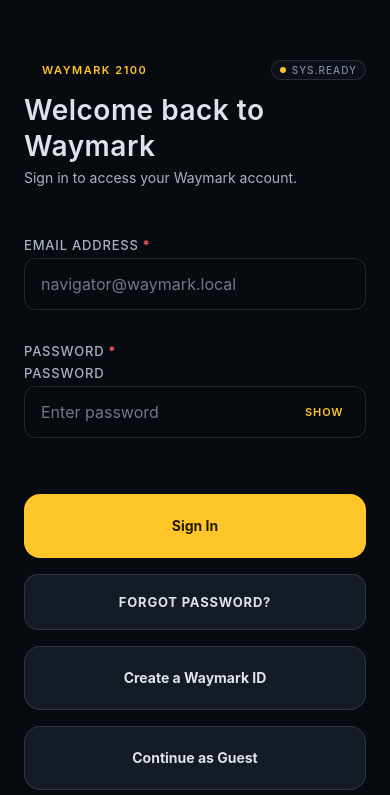
Test: Feature 04.2.2 — Sign-In Screen & Form Validation › TC-04.2.2-14: displays sanitized error message on network failure
The width and height of the screenshot is (390, 795).
Type "pilot@waymark.local" into the field with test id "input-sign-in-email-input" at (195, 284), box [41,264,349,304]
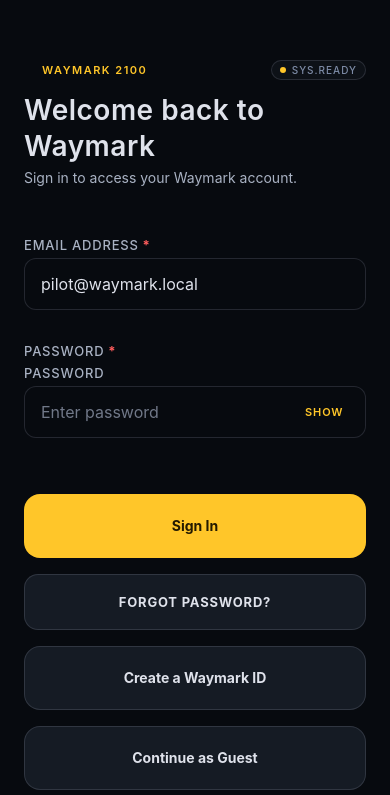
Type "ValidPass123!" into the password field with test id "input-sign-in-password-input" at (165, 412), box [41,392,289,432]
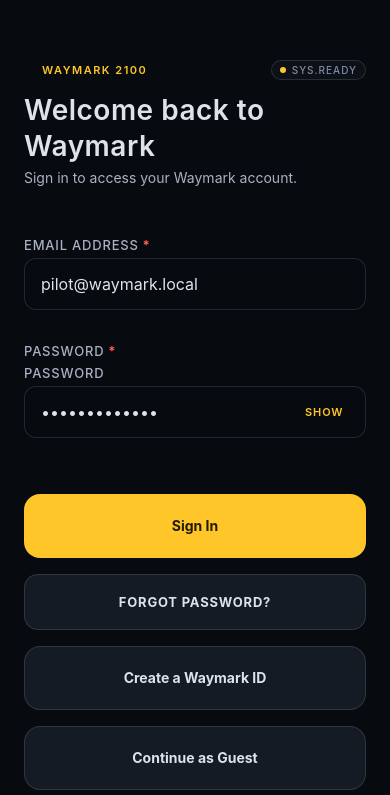
Click the button with test id "btn-submit-sign-in" at (195, 526), box [24,494,366,558]
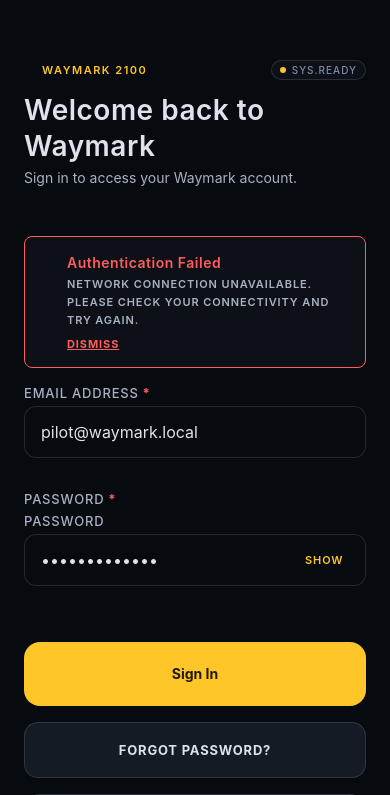
Expected: the message with test id "sign-in-error-notice" is shown, [24,236,366,368]
Expected: the text "Network connection unavailable" is shown, [67,277,333,327]
